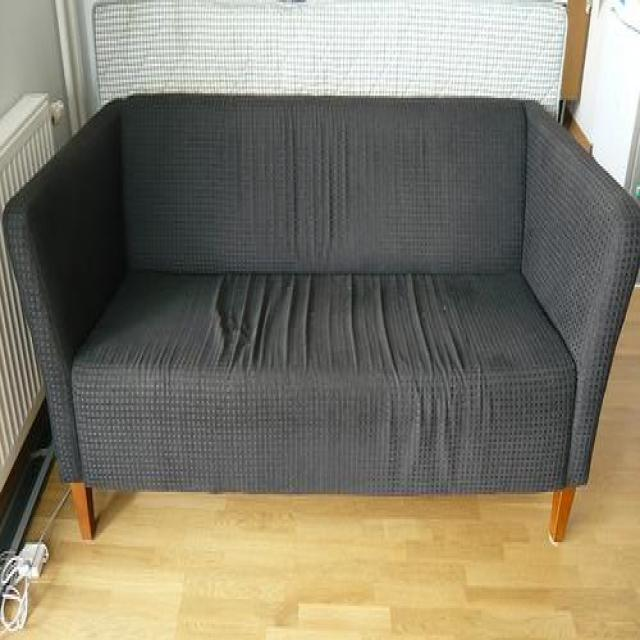sofa: (4, 90, 640, 544)
